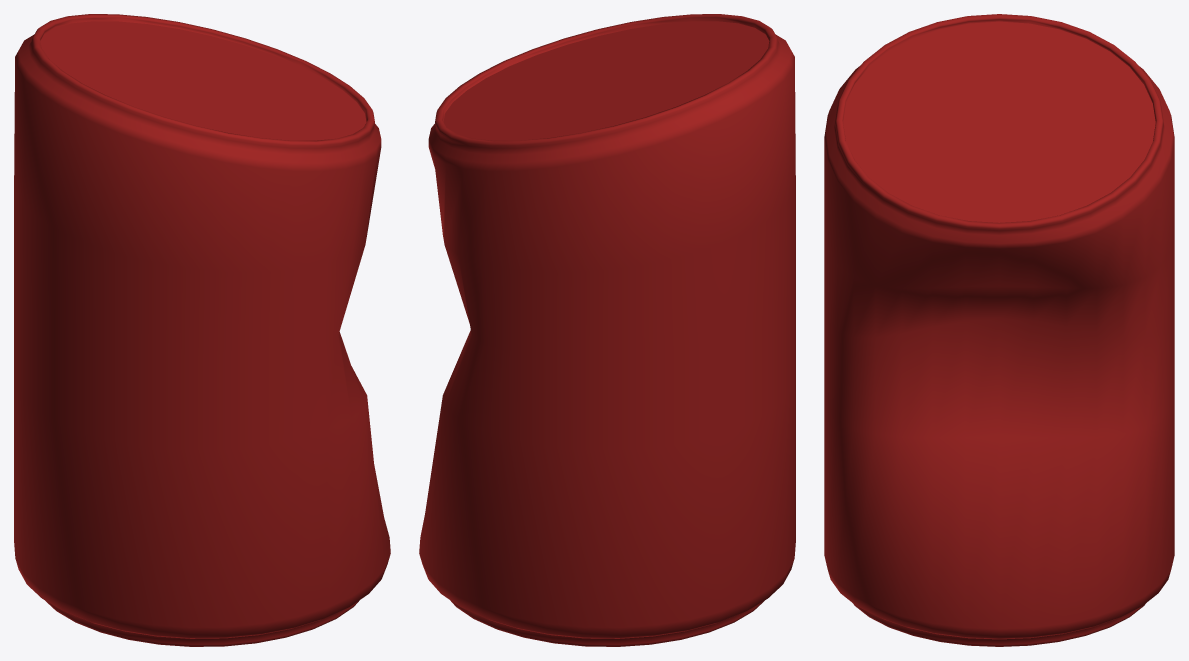
The model's file is Can_Crush1.fbx.
3 views of the same model, side by side, from view 1: azimuth 30°, elevation 25°; view 2: azimuth 150°, elevation 25°; view 3: azimuth 270°, elevation 25° (orthographic). The views are drawn at different scales.
Parts seen in each view (by area): view 1: Can_Crush1; view 2: Can_Crush1; view 3: Can_Crush1.
Part boxes in pixels (x1,y1,x2,y2): Can_Crush1: (14,14,390,646); Can_Crush1: (419,14,795,646); Can_Crush1: (824,14,1174,646).
Bounding box in the file's own units: 20.14 × 31.84 × 20.14.
